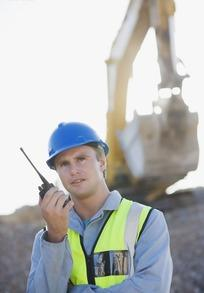helmet: (46, 121, 111, 171)
